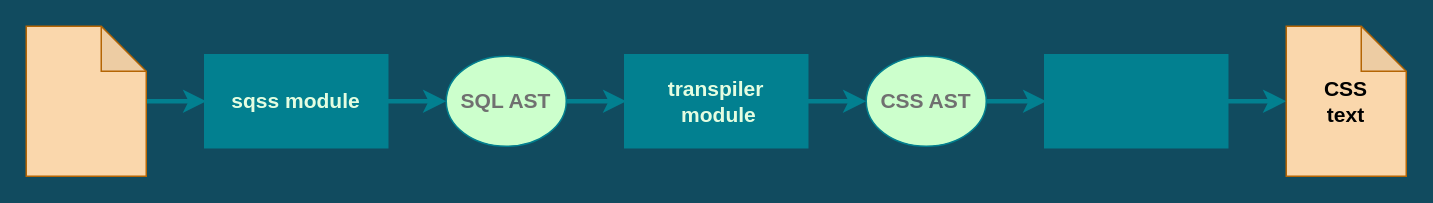
Image size: 1433x203. Some labels were removed from this diagram. The centre of each missing label's shape, as x and y in pixels:
"css module" belongs at (x=1135, y=100).
"SQL text" belongs at (x=85, y=100).
